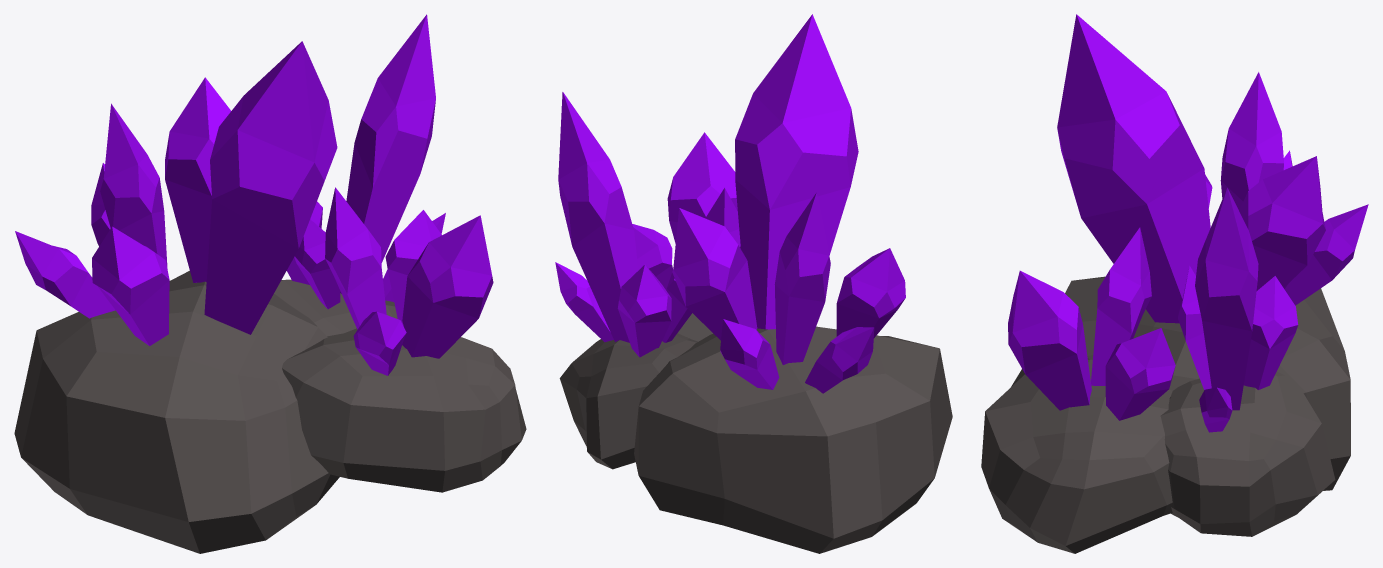
The model's file is crystals.fbx.
The picture shows the model from 3 angles, left to right: view 1: azimuth 30°, elevation 25°; view 2: azimuth 150°, elevation 25°; view 3: azimuth 270°, elevation 25°; orthographic projection. The views are drawn at different scales.
Visible parts, largest first — view 1: pCube7, pCube14, pCube6, pCube2, pCube13, pCube10, pCube11, pCube8, pCube16, pCube19, pCube15, pCube3 (+3 smaller); view 2: pCube7, pCube6, pCube2, pCube3, pCube10, pCube8, pCube11, pCube13, pCube4, pCube18, pCube19, pCube17 (+4 smaller); view 3: pCube6, pCube14, pCube3, pCube7, pCube2, pCube13, pCube10, pCube8, pCube16, pCube15, pCube4, pCube18 (+2 smaller).
Boxes of the visible parts, <box> form: pCube7: <box>14,270,339,553</box>; pCube14: <box>282,328,526,492</box>; pCube6: <box>204,41,337,334</box>; pCube2: <box>340,14,435,293</box>; pCube13: <box>402,215,493,358</box>; pCube10: <box>165,77,230,282</box>; pCube11: <box>92,226,169,345</box>; pCube8: <box>100,103,167,269</box>; pCube16: <box>325,187,386,329</box>; pCube19: <box>15,231,115,318</box>; pCube15: <box>385,210,441,320</box>; pCube3: <box>274,279,397,336</box>; pCube7: <box>634,326,952,553</box>; pCube6: <box>735,14,858,329</box>; pCube2: <box>558,92,638,342</box>; pCube3: <box>559,333,697,469</box>; pCube10: <box>672,208,757,340</box>; pCube8: <box>774,193,830,364</box>; pCube11: <box>836,248,905,338</box>; pCube13: <box>667,132,737,243</box>; pCube4: <box>617,265,671,357</box>; pCube18: <box>720,319,779,389</box>; pCube19: <box>805,327,874,393</box>; pCube17: <box>555,262,613,342</box>; pCube6: <box>1057,14,1210,323</box>; pCube14: <box>981,355,1172,553</box>; pCube3: <box>1160,371,1335,536</box>; pCube7: <box>1011,276,1350,490</box>; pCube2: <box>1195,187,1258,410</box>; pCube13: <box>1008,270,1091,410</box>; pCube10: <box>1239,156,1325,290</box>; pCube8: <box>1220,72,1283,210</box>; pCube16: <box>1091,227,1151,385</box>; pCube15: <box>1105,328,1175,420</box>; pCube4: <box>1244,276,1298,389</box>; pCube18: <box>1284,204,1368,305</box>.
Bounding box in the file's own units: 13.08 × 15.4 × 11.13.
